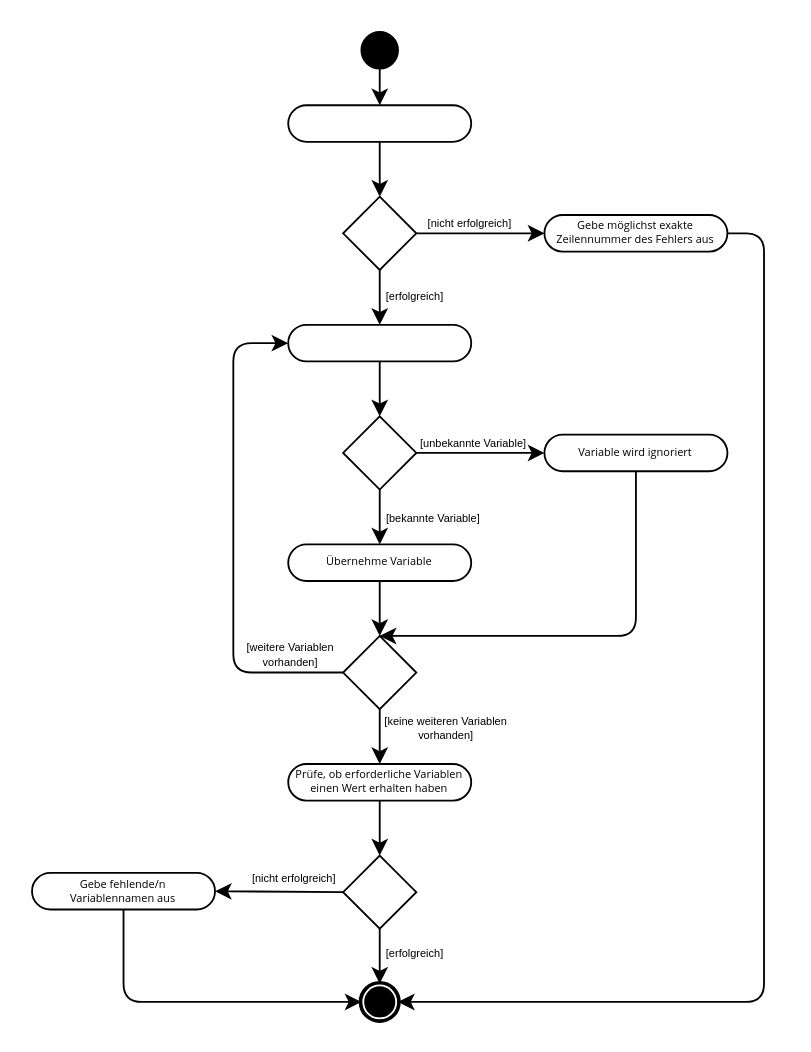
This 811x1052 diagram has some shape labels left out. The box of each missing label's shape, as (x1, y1, x2, y2) in pixels:
Versuche erste/nächste Variable zu parsen: (286, 323, 471, 361)
Versuche YAML zu JSON zu konvertieren: (286, 103, 471, 142)
